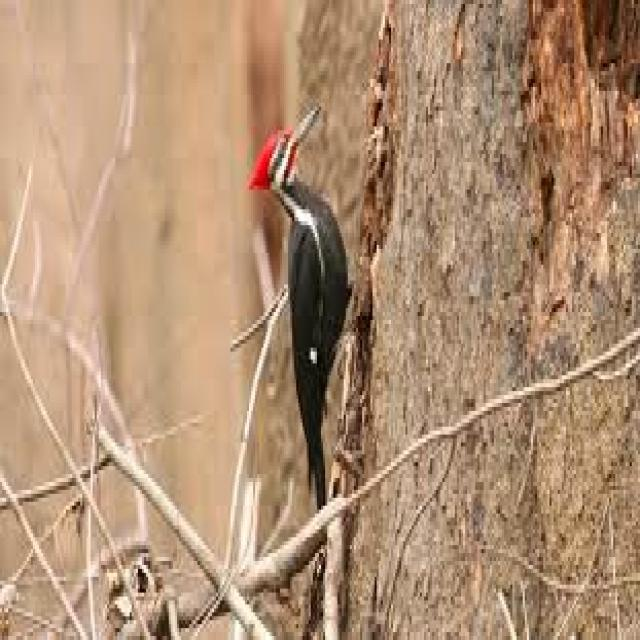woodpecker: (249, 107, 350, 506)
